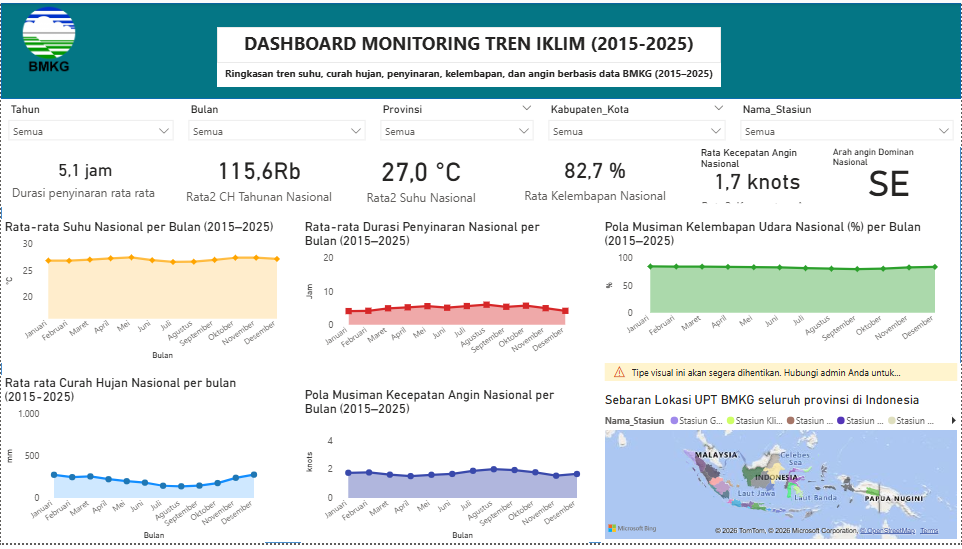

Layout of this report page (visuals, bound fields, positions):
{"tool":"powerbi","page":{"name":"Halaman Utama","canvas":[1280,720],"ordinal":0},"visuals":[{"type":"shape","box":[0,112,1280,608],"z":0},{"type":"shape","box":[0,0,1280,128],"z":1000},{"type":"image","box":[0,0,128,96],"z":2000},{"type":"textbox","box":[288,32,672,48],"z":3000},{"type":"slicer","fields":{"Values":["Dim_Provinsi.Provinsi"]},"box":[496,128,224,64],"z":4000},{"type":"slicer","fields":{"Values":["INDONESIA_GABUNGAN_2015_2025 csv(2).Tahun"]},"box":[0,128,240,64],"z":5000},{"type":"slicer","fields":{"Values":["Dim_Bulan.Bulan"]},"box":[240,128,256,64],"z":6000},{"type":"slicer","fields":{"Values":["INDONESIA_GABUNGAN_2015_2025 csv(2).Kabupaten_Kota"]},"box":[720,128,256,64],"z":7000},{"type":"slicer","fields":{"Values":["INDONESIA_GABUNGAN_2015_2025 csv(2).Nama_Stasiun"]},"box":[976,128,304,64],"z":8000},{"type":"lineChart","title":"Pola Musiman Kecepatan Angin Nasional per Bulan (2015–2025)","fields":{"Category":["Dim_Bulan.Bulan"],"Y":["INDONESIA_GABUNGAN_2015_2025 csv(2).Rata2_Kecepatan_Angin_Bulanan"]},"box":[400,512,384,208],"z":9000},{"type":"lineChart","title":"Rata-rata Suhu Nasional per Bulan (2015–2025)","fields":{"Category":["Dim_Bulan.Bulan"],"Y":["INDONESIA_GABUNGAN_2015_2025 csv(2).Rata2_Suhu_Bulanan_Nasional"]},"box":[0,288,384,192],"z":10000},{"type":"lineChart","title":"Rata-rata Durasi Penyinaran Nasional per Bulan (2015–2025)","fields":{"Category":["Dim_Bulan.Bulan"],"Y":["INDONESIA_GABUNGAN_2015_2025 csv(2).Rata2_Penyinaran_Bulanan"]},"box":[400,288,368,192],"z":11000},{"type":"textbox","box":[288,80,672,32],"z":12000},{"type":"lineChart","title":"Rata rata Curah Hujan Nasional per bulan (2015-2025)","fields":{"Category":["Dim_Bulan.Bulan"],"Y":["INDONESIA_GABUNGAN_2015_2025 csv(2).Rata2_CH_Bulanan_Nasional"]},"box":[0,496,352,224],"z":13000},{"type":"shape","box":[0,192,224,80],"z":14000},{"type":"card","fields":{"Values":["INDONESIA_GABUNGAN_2015_2025 csv(2).Rata_Penyinaran_Tahunan_KPI"]},"box":[0,192,224,80],"z":15000},{"type":"shape","box":[240,192,208,80],"z":16000},{"type":"card","fields":{"Values":["INDONESIA_GABUNGAN_2015_2025 csv(2).Rata2_CH_Tahunan_Nasional_mm"]},"box":[240,192,208,80],"z":17000},{"type":"shape","box":[464,192,192,80],"z":18000},{"type":"card","fields":{"Values":["INDONESIA_GABUNGAN_2015_2025 csv(2).Rata Suhu Nasional"]},"box":[464,192,192,80],"z":19000},{"type":"shape","box":[672,192,240,80],"z":20000},{"type":"lineChart","title":"Pola Musiman Kelembapan Udara Nasional (%) per Bulan (2015–2025)","fields":{"Category":["Dim_Bulan.Bulan"],"Y":["INDONESIA_GABUNGAN_2015_2025 csv(2).Rata2_Kelembapan_Bulanan"]},"box":[800,288,464,176],"z":21000},{"type":"card","fields":{"Values":["INDONESIA_GABUNGAN_2015_2025 csv(2).Rata_Kelembapan_Nasional_KPI"]},"box":[672,192,240,80],"z":22000},{"type":"shape","box":[928,192,160,80],"z":23000},{"type":"card","title":"Rata Kecepatan Angin Nasional","fields":{"Values":["INDONESIA_GABUNGAN_2015_2025 csv(2).Rata2_Kecepatan_Angin_Nasional"]},"box":[928,192,160,80],"z":24000},{"type":"shape","box":[1104,192,160,80],"z":25000},{"type":"card","title":"Arah angin Dominan Nasional ","fields":{"Values":["INDONESIA_GABUNGAN_2015_2025 csv(2).Arah_Angin_Dominan_Nasional"]},"box":[1104,192,160,80],"z":26000},{"type":"filledMap","title":"Sebaran Lokasi UPT BMKG seluruh provinsi di Indonesia","fields":{"X":["Avg(Dim_Lokasi.Longitude)"],"Series":["INDONESIA_GABUNGAN_2015_2025 csv(2).Nama_Stasiun"],"Category":["Dim_Lokasi.Provinsi","INDONESIA_GABUNGAN_2015_2025 csv(2).Kabupaten_Kota"],"Y":["Avg(Dim_Lokasi.Latitude)"]},"box":[800,480,480,240],"z":27000}]}

Visuals, with their boxes in screenshot pixels (x1, y1, x2, y2), scaled from the page's 1280x720 canvas onto the 962x549 screenshot:
shape: <region>0, 85, 961, 548</region>
shape: <region>0, 0, 961, 98</region>
image: <region>0, 0, 96, 73</region>
textbox: <region>216, 24, 722, 61</region>
slicer - Dim_Provinsi.Provinsi: <region>373, 98, 541, 146</region>
slicer - INDONESIA_GABUNGAN_2015_2025 csv(2).Tahun: <region>0, 98, 180, 146</region>
slicer - Dim_Bulan.Bulan: <region>180, 98, 373, 146</region>
slicer - INDONESIA_GABUNGAN_2015_2025 csv(2).Kabupaten_Kota: <region>541, 98, 734, 146</region>
slicer - INDONESIA_GABUNGAN_2015_2025 csv(2).Nama_Stasiun: <region>734, 98, 961, 146</region>
"Pola Musiman Kecepatan Angin Nasional per Bulan (2015–2025)" lineChart: <region>301, 390, 589, 548</region>
"Rata-rata Suhu Nasional per Bulan (2015–2025)" lineChart: <region>0, 220, 289, 366</region>
"Rata-rata Durasi Penyinaran Nasional per Bulan (2015–2025)" lineChart: <region>301, 220, 577, 366</region>
textbox: <region>216, 61, 722, 85</region>
"Rata rata Curah Hujan Nasional per bulan (2015-2025)" lineChart: <region>0, 378, 265, 548</region>
shape: <region>0, 146, 168, 207</region>
card - INDONESIA_GABUNGAN_2015_2025 csv(2).Rata_Penyinaran_Tahunan_KPI: <region>0, 146, 168, 207</region>
shape: <region>180, 146, 337, 207</region>
card - INDONESIA_GABUNGAN_2015_2025 csv(2).Rata2_CH_Tahunan_Nasional_mm: <region>180, 146, 337, 207</region>
shape: <region>349, 146, 493, 207</region>
card - INDONESIA_GABUNGAN_2015_2025 csv(2).Rata Suhu Nasional: <region>349, 146, 493, 207</region>
shape: <region>505, 146, 685, 207</region>
"Pola Musiman Kelembapan Udara Nasional (%) per Bulan (2015–2025)" lineChart: <region>601, 220, 950, 354</region>
card - INDONESIA_GABUNGAN_2015_2025 csv(2).Rata_Kelembapan_Nasional_KPI: <region>505, 146, 685, 207</region>
shape: <region>697, 146, 818, 207</region>
"Rata Kecepatan Angin Nasional" card: <region>697, 146, 818, 207</region>
shape: <region>830, 146, 950, 207</region>
"Arah angin Dominan Nasional " card: <region>830, 146, 950, 207</region>
"Sebaran Lokasi UPT BMKG seluruh provinsi di Indonesia" filledMap: <region>601, 366, 961, 548</region>
